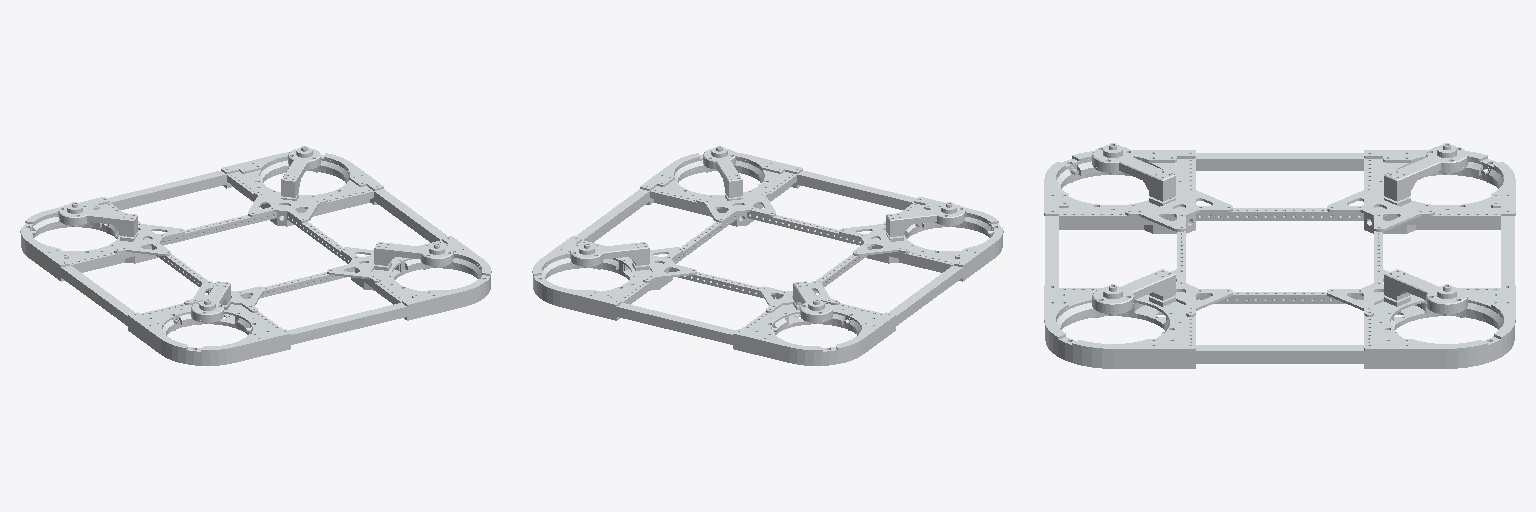
robot.urdf — URDF:
<?xml version="1.0" encoding="utf-8"?>
<!-- This URDF was automatically created by SolidWorks to URDF Exporter! Originally created by [author] ([email redacted]) 
     Commit Version: 1.6.0-4-g7f85cfe  Build Version: 1.6.7995.38578
     For more information, please see http://wiki.ros.org/sw_urdf_exporter -->
<robot
  name="URDF">
  <link
    name="base_link">
    <inertial>
      <origin
        xyz="7.94331267428561E-12 7.94520005342747E-12 0.0818008501965235"
        rpy="0 0 0" />
      <mass
        value="2.13452082267233" />
      <inertia
        ixx="0.00505023124392984"
        ixy="-8.80914265662662E-18"
        ixz="2.37830826519254E-10"
        iyy="0.00505023124392984"
        iyz="-2.37830827423825E-10"
        izz="0.0100179487102063" />
    </inertial>
    <visual>
      <origin
        xyz="0 0 0"
        rpy="0 0 0" />
      <geometry>
        <mesh
          filename="package://URDF/meshes/base_link.STL" />
      </geometry>
      <material
        name="">
        <color
          rgba="0.898039215686275 0.917647058823529 0.929411764705882 1" />
      </material>
    </visual>
    <collision>
      <origin
        xyz="0 0 0"
        rpy="0 0 0" />
      <geometry>
        <mesh
          filename="package://URDF/meshes/base_link.STL" />
      </geometry>
    </collision>
  </link>
  <link
    name="steer1">
    <inertial>
      <origin
        xyz="0.17805 0.16576 0.045793"
        rpy="0 0 0" />
      <mass
        value="1.1119" />
      <inertia
        ixx="0.00063155"
        ixy="-1.2629E-06"
        ixz="-4.4296E-08"
        iyy="0.00051204"
        iyz="-6.306E-07"
        izz="0.00079305" />
    </inertial>
    <visual>
      <origin
        xyz="0 0 0"
        rpy="0 0 0" />
      <geometry>
        <mesh
          filename="package://URDF/meshes/steer1.STL" />
      </geometry>
      <material
        name="">
        <color
          rgba="1 1 1 0.35" />
      </material>
    </visual>
    <collision>
      <origin
        xyz="0 0 0"
        rpy="0 0 0" />
      <geometry>
        <mesh
          filename="package://URDF/meshes/steer1.STL" />
      </geometry>
    </collision>
  </link>
  <joint
    name="steer1_joint"
    type="revolute">
    <origin
      xyz="0 0 0"
      rpy="0 0 0" />
    <parent
      link="base_link" />
    <child
      link="steer1" />
    <axis
      xyz="0 0 1" />
    <limit
      lower="0"
      upper="0"
      effort="14"
      velocity="40" />
  </joint>
  <link
    name="drive1">
    <inertial>
      <origin
        xyz="-0.14877 -0.04757 -0.003727"
        rpy="0 0 0" />
      <mass
        value="0.093012" />
      <inertia
        ixx="5.6816E-05"
        ixy="2.2945E-14"
        ixz="-3.6774E-09"
        iyy="5.663E-05"
        iyz="-8.7736E-14"
        izz="8.8104E-05" />
    </inertial>
    <visual>
      <origin
        xyz="0 0 0"
        rpy="0 0 0" />
      <geometry>
        <mesh
          filename="package://URDF/meshes/drive1.STL" />
      </geometry>
      <material
        name="">
        <color
          rgba="1 1 1 0.35" />
      </material>
    </visual>
    <collision>
      <origin
        xyz="0 0 0"
        rpy="0 0 0" />
      <geometry>
        <mesh
          filename="package://URDF/meshes/drive1.STL" />
      </geometry>
    </collision>
  </link>
  <joint
    name="drive1_joint"
    type="continuous">
    <origin
      xyz="0.029 0.19244 0.08757"
      rpy="1.5708 0 -3.127" />
    <parent
      link="steer1" />
    <child
      link="drive1" />
    <axis
      xyz="0 0 -1" />
    <limit
      effort="4.5"
      velocity="52" />
  </joint>
  <link
    name="steer2">
    <inertial>
      <origin
        xyz="0.165756272867722 -0.178046942564116 0.0457933558711005"
        rpy="0 0 0" />
      <mass
        value="1.1118772178264" />
      <inertia
        ixx="0.000512037355922977"
        ixy="1.26288825588275E-06"
        ixz="-6.30596556577934E-07"
        iyy="0.000631551289156068"
        iyz="4.42963468371104E-08"
        izz="0.000793052091848933" />
    </inertial>
    <visual>
      <origin
        xyz="0 0 0"
        rpy="0 0 0" />
      <geometry>
        <mesh
          filename="package://URDF/meshes/steer2.STL" />
      </geometry>
      <material
        name="">
        <color
          rgba="1 1 1 0.35" />
      </material>
    </visual>
    <collision>
      <origin
        xyz="0 0 0"
        rpy="0 0 0" />
      <geometry>
        <mesh
          filename="package://URDF/meshes/steer2.STL" />
      </geometry>
    </collision>
  </link>
  <joint
    name="steer2_joint"
    type="revolute">
    <origin
      xyz="0 0 0"
      rpy="0 0 0" />
    <parent
      link="base_link" />
    <child
      link="steer2" />
    <axis
      xyz="0 0 1" />
    <limit
      lower="0"
      upper="0"
      effort="14"
      velocity="40" />
  </joint>
  <link
    name="drive2">
    <inertial>
      <origin
        xyz="-0.148771117523335 -0.0475700189380724 -0.00372703536676822"
        rpy="0 0 0" />
      <mass
        value="0.0930124941681603" />
      <inertia
        ixx="5.68163374839874E-05"
        ixy="2.29453387751653E-14"
        ixz="-3.67739933063103E-09"
        iyy="5.66303681074938E-05"
        iyz="-8.77355248562714E-14"
        izz="8.81040187330934E-05" />
    </inertial>
    <visual>
      <origin
        xyz="0 0 0"
        rpy="0 0 0" />
      <geometry>
        <mesh
          filename="package://URDF/meshes/drive2.STL" />
      </geometry>
      <material
        name="">
        <color
          rgba="1 1 1 0.35" />
      </material>
    </visual>
    <collision>
      <origin
        xyz="0 0 0"
        rpy="0 0 0" />
      <geometry>
        <mesh
          filename="package://URDF/meshes/drive2.STL" />
      </geometry>
    </collision>
  </link>
  <joint
    name="drive2_joint"
    type="continuous">
    <origin
      xyz="0.19244 -0.029 0.08757"
      rpy="1.5708 0 1.5854" />
    <parent
      link="steer2" />
    <child
      link="drive2" />
    <axis
      xyz="0 0 -1" />
    <limit
      effort="4.5"
      velocity="52" />
  </joint>
  <link
    name="steer3">
    <inertial>
      <origin
        xyz="-0.178046942564116 -0.165756272867729 0.0457933558711005"
        rpy="0 0 0" />
      <mass
        value="1.1118772178264" />
      <inertia
        ixx="0.000631551289156068"
        ixy="-1.26288825588178E-06"
        ixz="4.42963468371406E-08"
        iyy="0.000512037355922978"
        iyz="6.30596556577819E-07"
        izz="0.000793052091848933" />
    </inertial>
    <visual>
      <origin
        xyz="0 0 0"
        rpy="0 0 0" />
      <geometry>
        <mesh
          filename="package://URDF/meshes/steer3.STL" />
      </geometry>
      <material
        name="">
        <color
          rgba="1 1 1 0.35" />
      </material>
    </visual>
    <collision>
      <origin
        xyz="0 0 0"
        rpy="0 0 0" />
      <geometry>
        <mesh
          filename="package://URDF/meshes/steer3.STL" />
      </geometry>
    </collision>
  </link>
  <joint
    name="steer3_joint"
    type="revolute">
    <origin
      xyz="0 0 0"
      rpy="0 0 0" />
    <parent
      link="base_link" />
    <child
      link="steer3" />
    <axis
      xyz="0 0 1" />
    <limit
      lower="0"
      upper="0"
      effort="14"
      velocity="40" />
  </joint>
  <link
    name="drive3">
    <inertial>
      <origin
        xyz="-0.148771117523335 -0.0475700189380724 -0.00372703536676822"
        rpy="0 0 0" />
      <mass
        value="0.0930124941681606" />
      <inertia
        ixx="5.68163374839876E-05"
        ixy="2.29453389579205E-14"
        ixz="-3.67739933065824E-09"
        iyy="5.6630368107494E-05"
        iyz="-8.77355362228996E-14"
        izz="8.81040187330936E-05" />
    </inertial>
    <visual>
      <origin
        xyz="0 0 0"
        rpy="0 0 0" />
      <geometry>
        <mesh
          filename="package://URDF/meshes/drive3.STL" />
      </geometry>
      <material
        name="">
        <color
          rgba="1 1 1 0.35" />
      </material>
    </visual>
    <collision>
      <origin
        xyz="0 0 0"
        rpy="0 0 0" />
      <geometry>
        <mesh
          filename="package://URDF/meshes/drive3.STL" />
      </geometry>
    </collision>
  </link>
  <joint
    name="drive3_joint"
    type="continuous">
    <origin
      xyz="-0.029 -0.19244 0.08757"
      rpy="1.5708 0 0.014628" />
    <parent
      link="steer3" />
    <child
      link="drive3" />
    <axis
      xyz="0 0 -1" />
    <limit
      effort="4.5"
      velocity="52" />
  </joint>
  <link
    name="steer4">
    <inertial>
      <origin
        xyz="-0.165756272867732 0.178046942564112 0.0457933558711005"
        rpy="0 0 0" />
      <mass
        value="1.1118772178264" />
      <inertia
        ixx="0.000512037355922976"
        ixy="1.26288825588161E-06"
        ixz="6.30596556577833E-07"
        iyy="0.000631551289156068"
        iyz="-4.42963468371611E-08"
        izz="0.000793052091848931" />
    </inertial>
    <visual>
      <origin
        xyz="0 0 0"
        rpy="0 0 0" />
      <geometry>
        <mesh
          filename="package://URDF/meshes/steer4.STL" />
      </geometry>
      <material
        name="">
        <color
          rgba="1 1 1 0.35" />
      </material>
    </visual>
    <collision>
      <origin
        xyz="0 0 0"
        rpy="0 0 0" />
      <geometry>
        <mesh
          filename="package://URDF/meshes/steer4.STL" />
      </geometry>
    </collision>
  </link>
  <joint
    name="steer4_joint"
    type="revolute">
    <origin
      xyz="0 0 0"
      rpy="0 0 0" />
    <parent
      link="base_link" />
    <child
      link="steer4" />
    <axis
      xyz="0 0 1" />
    <limit
      lower="0"
      upper="0"
      effort="14"
      velocity="40" />
  </joint>
  <link
    name="drive4">
    <inertial>
      <origin
        xyz="-0.148771117523335 -0.0475700189380724 -0.00372703536676821"
        rpy="0 0 0" />
      <mass
        value="0.0930124941681607" />
      <inertia
        ixx="5.68163374839877E-05"
        ixy="2.29453389187193E-14"
        ixz="-3.677399330653E-09"
        iyy="5.66303681074941E-05"
        iyz="-8.77355429679947E-14"
        izz="8.81040187330937E-05" />
    </inertial>
    <visual>
      <origin
        xyz="0 0 0"
        rpy="0 0 0" />
      <geometry>
        <mesh
          filename="package://URDF/meshes/drive4.STL" />
      </geometry>
      <material
        name="">
        <color
          rgba="1 1 1 0.35" />
      </material>
    </visual>
    <collision>
      <origin
        xyz="0 0 0"
        rpy="0 0 0" />
      <geometry>
        <mesh
          filename="package://URDF/meshes/drive4.STL" />
      </geometry>
    </collision>
  </link>
  <joint
    name="drive4_joint"
    type="continuous">
    <origin
      xyz="-0.19244 0.029 0.08757"
      rpy="1.5708 0 -1.5562" />
    <parent
      link="steer4" />
    <child
      link="drive4" />
    <axis
      xyz="0 0 -1" />
    <limit
      effort="4.5"
      velocity="52" />
  </joint>
</robot>

--- Render facts (derived) ---
3 views of the same robot in one strip: view 1: azimuth 30°, elevation 25°; view 2: azimuth 150°, elevation 25°; view 3: azimuth 270°, elevation 25° (orthographic).
Robot: URDF — 9 links, 8 joints (4 revolute, 4 continuous); root link base_link; default pose: all joints at 0.
Visible links, largest first — view 1: base_link; view 2: base_link; view 3: base_link.
Boxes of the visible links, x1,y1,x2,y2 form: base_link: (20, 146, 491, 365); base_link: (532, 146, 1003, 365); base_link: (1044, 143, 1515, 368).
Size in the robot's own frame: 0.502 by 0.502 by 0.0648 metres.
1 mesh visuals loaded from 9 distinct referenced files (1 binary STL); not drawn: 8 (reference not matched to a file when rendering).